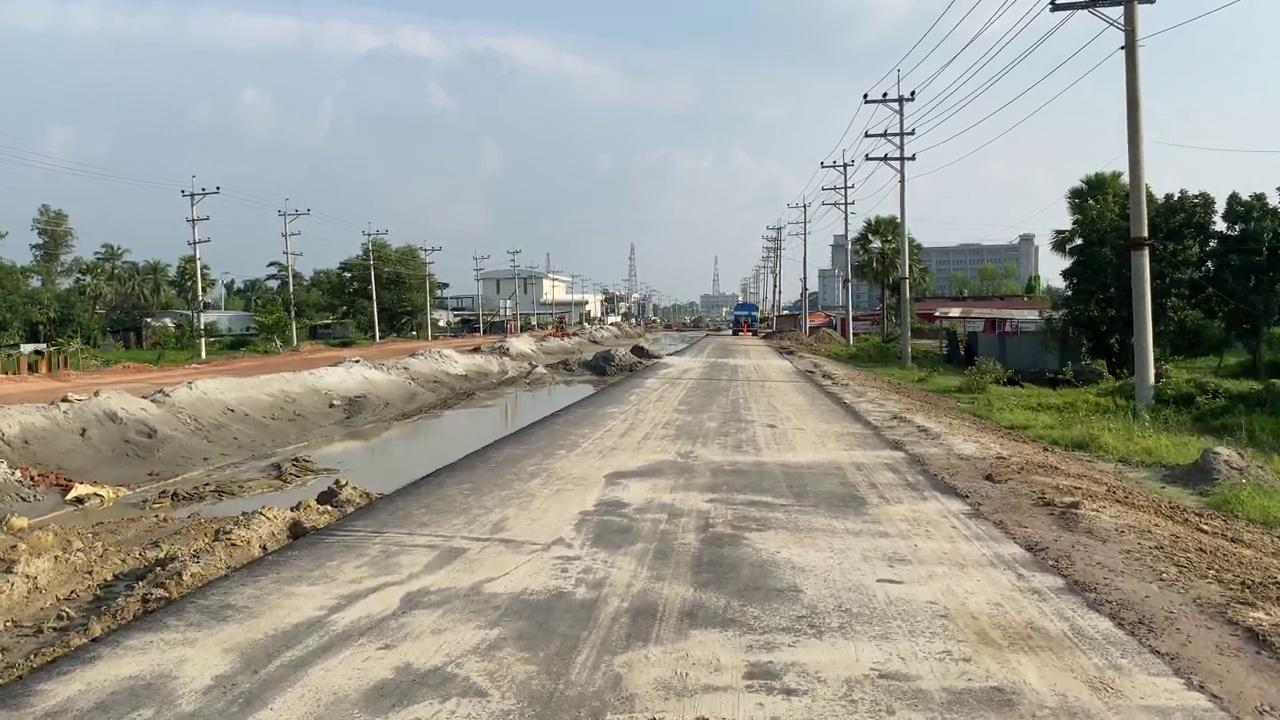Muddy road: (1, 348, 444, 718)
Pole: (885, 87, 938, 371), (1122, 1, 1156, 412), (191, 187, 230, 368), (810, 161, 846, 353)
Rickshaw: (480, 344, 1278, 720)
Sidewalk: (315, 360, 625, 498)
Stuck-water: (733, 329, 743, 344)
Traffic-sign: (1029, 183, 1189, 382), (839, 224, 916, 349)
Tree: (305, 327, 351, 348), (724, 310, 753, 343)
